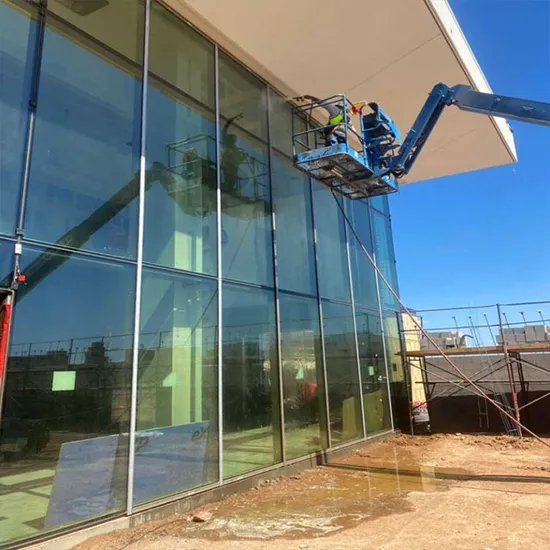glass panel: (0, 248, 134, 541), (25, 0, 143, 257), (133, 269, 217, 502), (144, 2, 216, 273), (219, 54, 272, 285), (222, 284, 280, 477), (0, 0, 36, 234), (279, 293, 325, 458), (272, 152, 316, 294), (47, 0, 143, 60), (322, 301, 361, 444), (312, 182, 350, 301), (219, 52, 267, 140), (356, 310, 390, 434), (346, 200, 377, 307), (269, 89, 306, 156), (372, 211, 398, 292), (383, 312, 403, 381), (0, 239, 14, 287), (369, 195, 388, 215)
